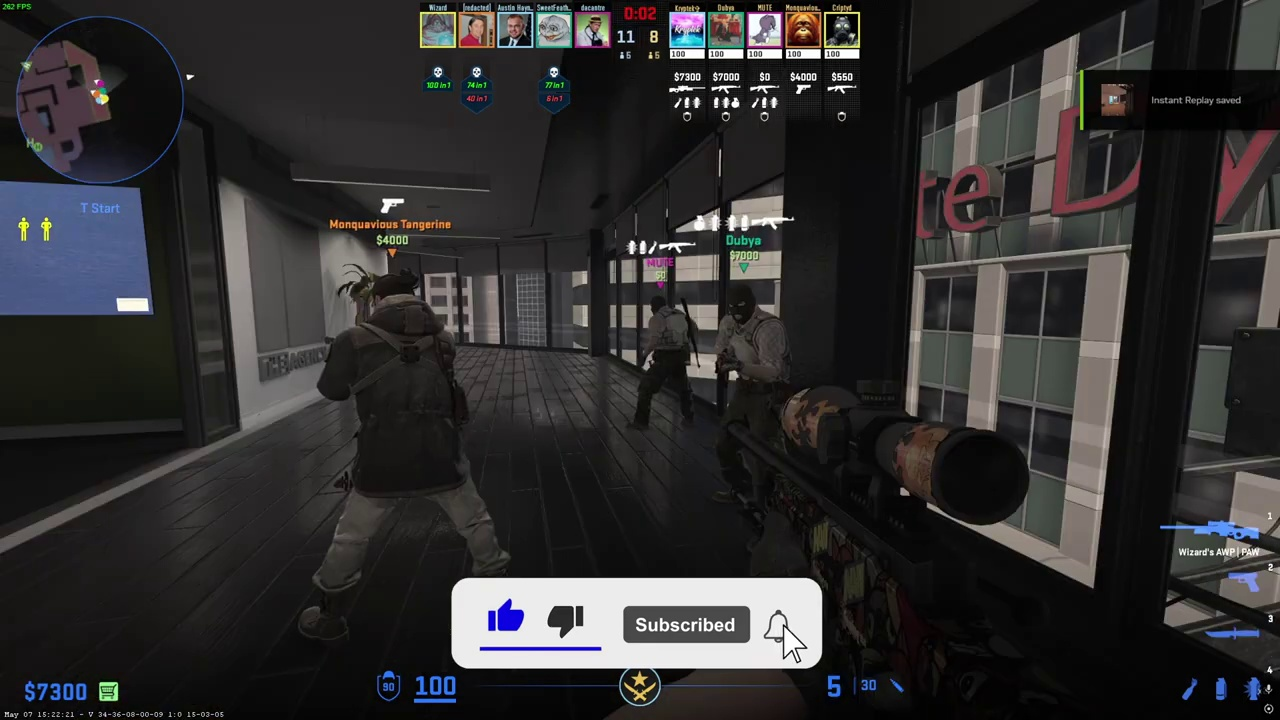Terrorist: (317, 270, 495, 641), (714, 282, 792, 527), (635, 294, 696, 432)
